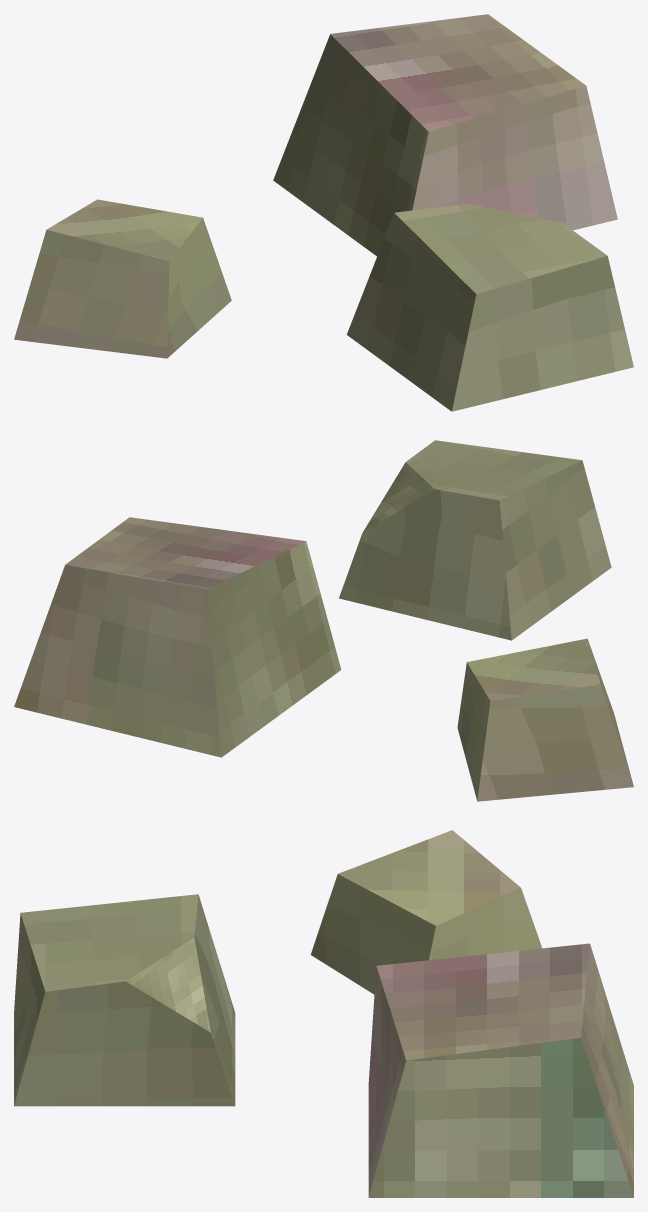
File: rocks.fbx
3 renders of one model, top to bottom at view 1: azimuth 30°, elevation 25°; view 2: azimuth 150°, elevation 25°; view 3: azimuth 270°, elevation 25°, orthographic. The views are drawn at different scales.
Parts seen in each view (by area): view 1: rock03, rock01, rock02; view 2: rock03, rock01, rock02; view 3: rock03, rock01, rock02.
Part boxes in pixels (left/top/right/bottom): rock03: left=273, top=14, right=617, bottom=256; rock01: left=346, top=203, right=633, bottom=411; rock02: left=14, top=199, right=231, bottom=358; rock03: left=14, top=517, right=341, bottom=757; rock01: left=339, top=440, right=611, bottom=640; rock02: left=457, top=638, right=633, bottom=801; rock03: left=368, top=943, right=633, bottom=1197; rock01: left=14, top=894, right=235, bottom=1106; rock02: left=310, top=830, right=541, bottom=994.
Bounding box in the file's own units: 1.48 × 0.4254 × 1.34.
1 material, 1 textured.
